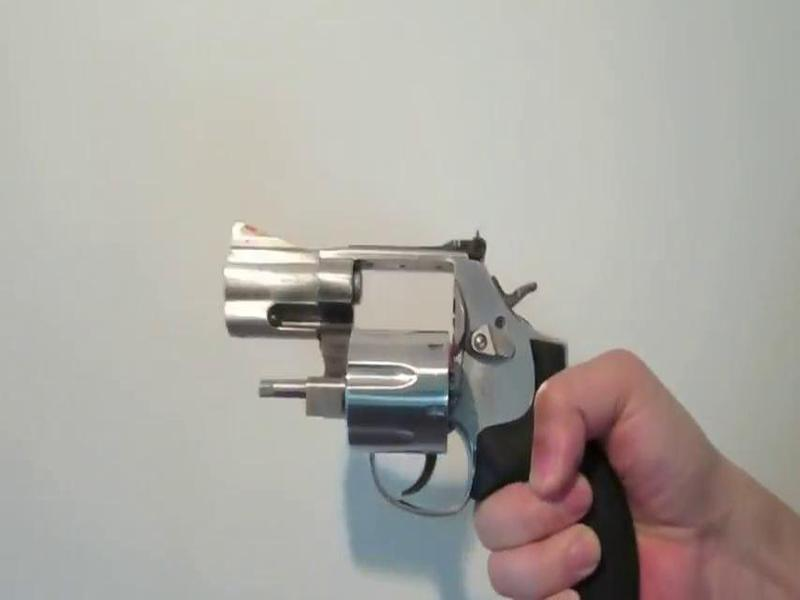Revolver: (206, 194, 665, 600)
